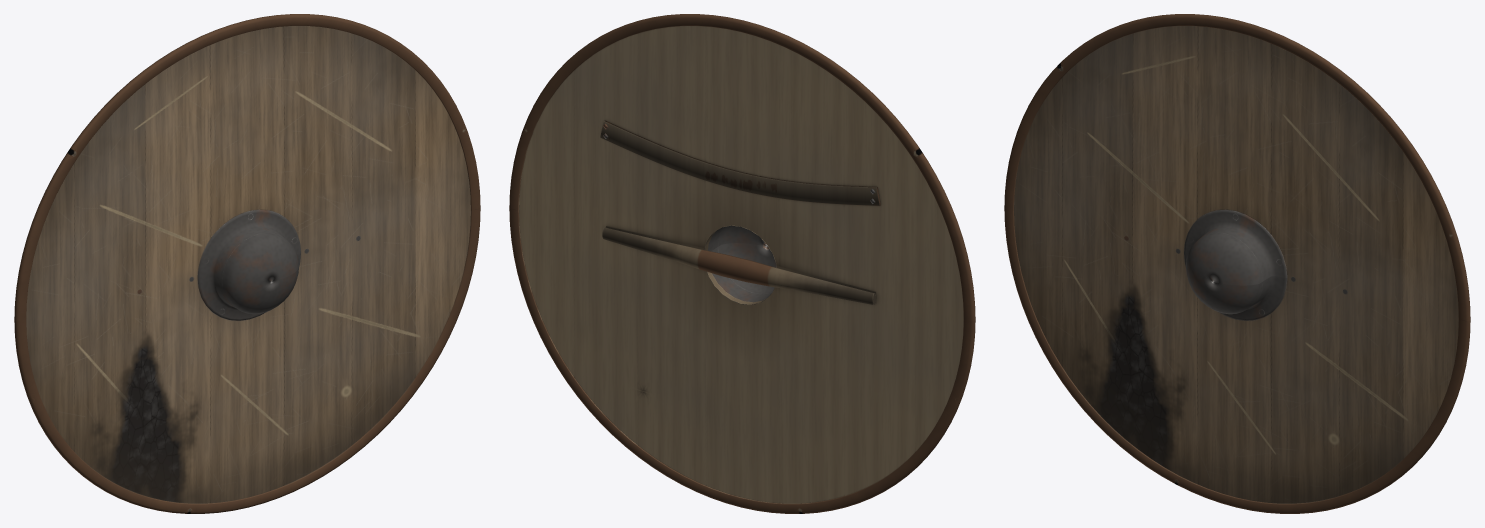
Rendered from SM_RoundShield.fbx.
3 renders of one model, left to right at view 1: azimuth 30°, elevation 25°; view 2: azimuth 150°, elevation 25°; view 3: azimuth 330°, elevation 25°, orthographic.
Visible parts, largest first — view 1: SM_RoundShield; view 2: SM_RoundShield; view 3: SM_RoundShield.
Boxes of the visible parts, box(x1,y1,x2,y2) form: SM_RoundShield: box(14, 14, 480, 513); SM_RoundShield: box(509, 14, 975, 513); SM_RoundShield: box(1004, 14, 1470, 513).
Bounding box in the file's own units: 80.88 × 10.46 × 80.88.
